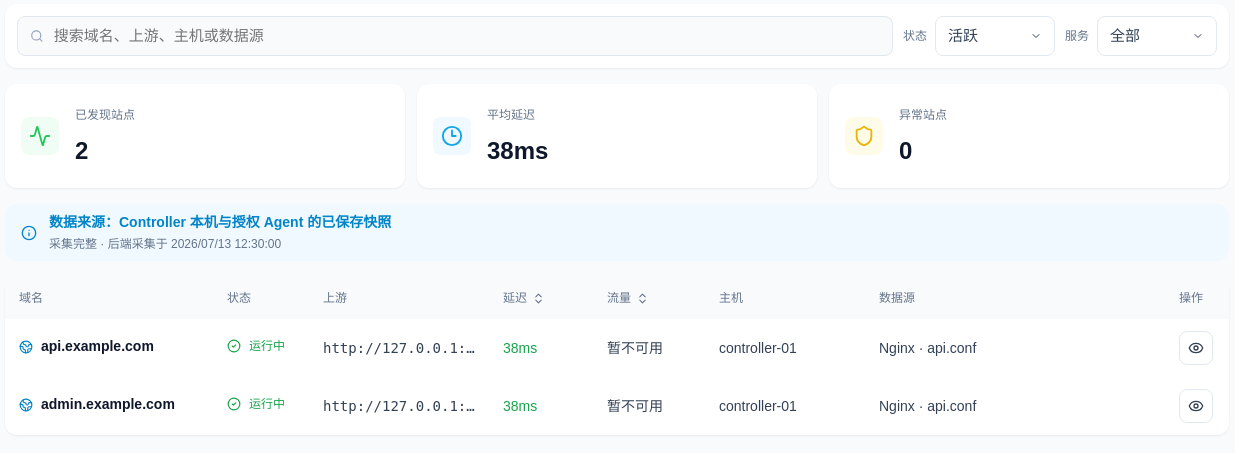
sites live monitoring page › polls every ten seconds, keeps filters, and retains data after a background failure
In the field with placeholder "搜索域名、上游、主机或数据源": (466, 36) [52,24,880,48], type "api.example.com"
Wait 20000 ms
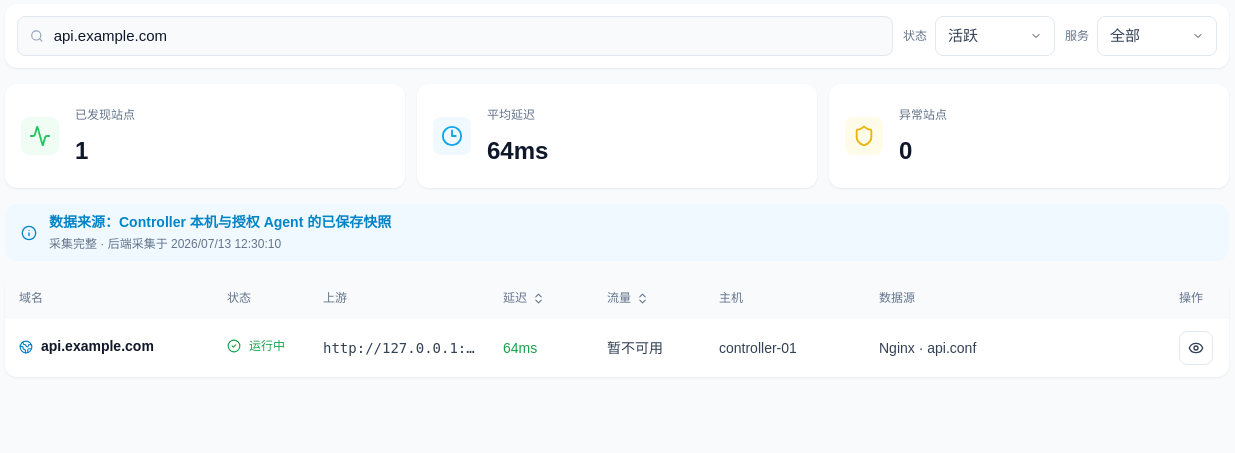
Expected: the text titled "admin.example.com" is gone
Expected: the text "64ms" below "平均延迟" is shown, [487,137,548,164]
